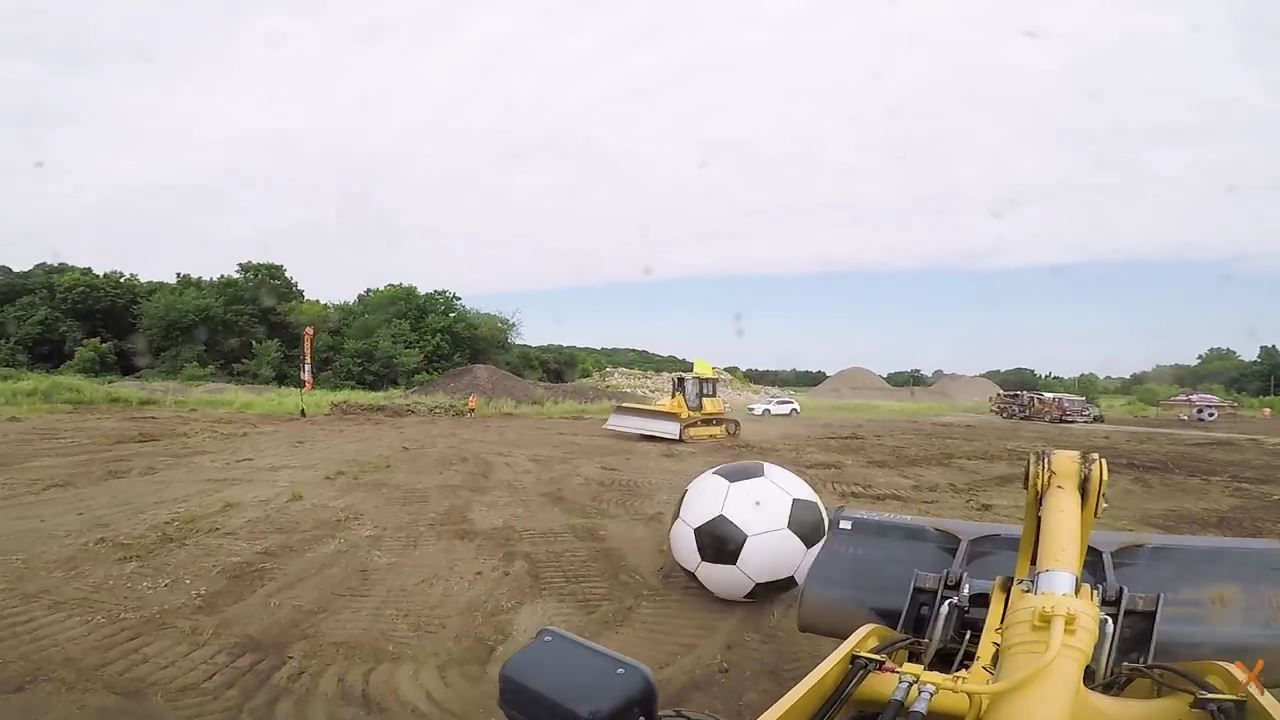con_eq: (499, 450, 1219, 717), (598, 362, 744, 441), (987, 389, 1093, 423)
